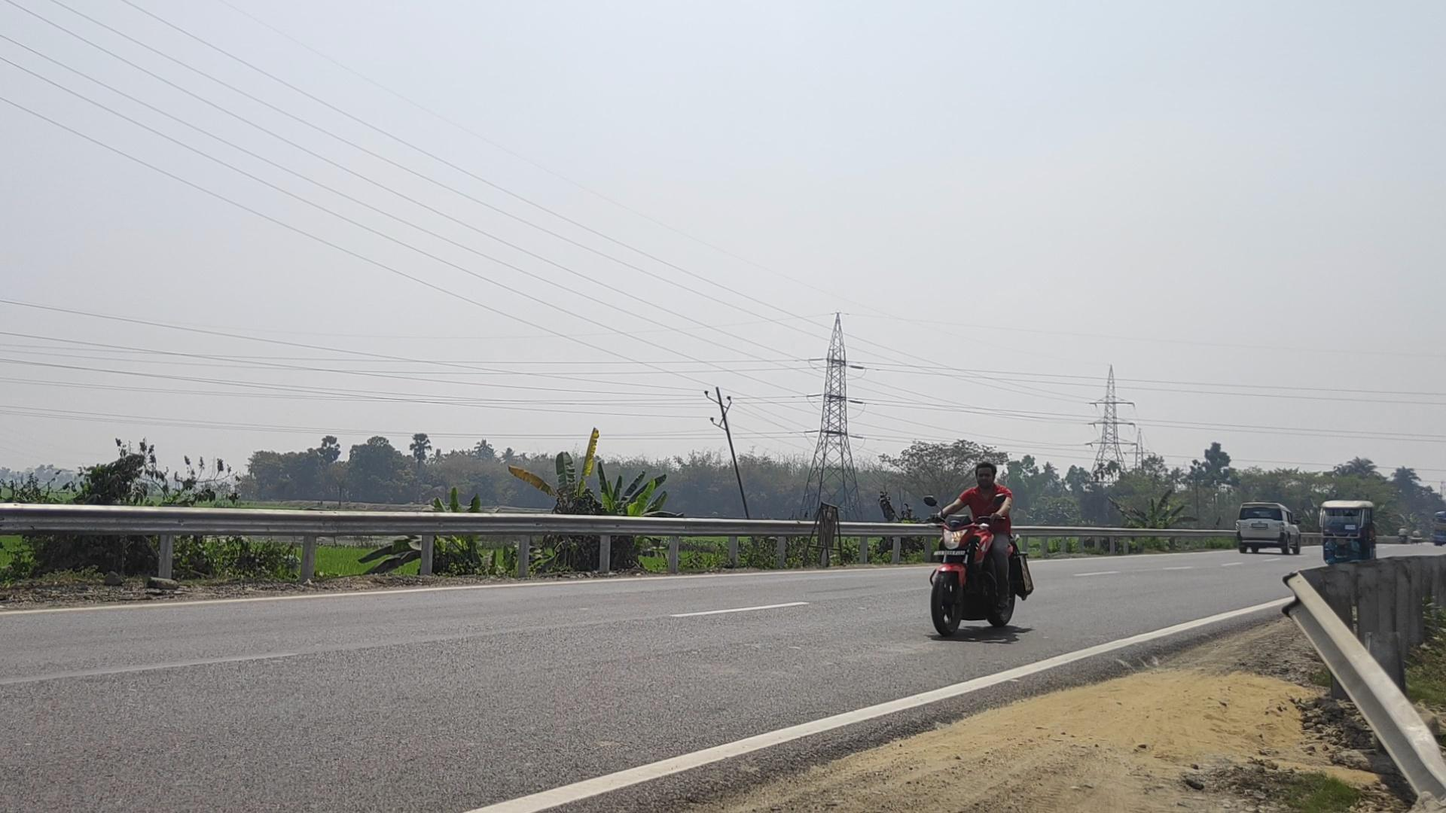Auto: (1319, 499, 1377, 566)
bike: (924, 462, 1035, 637)
car: (1236, 501, 1301, 556)
